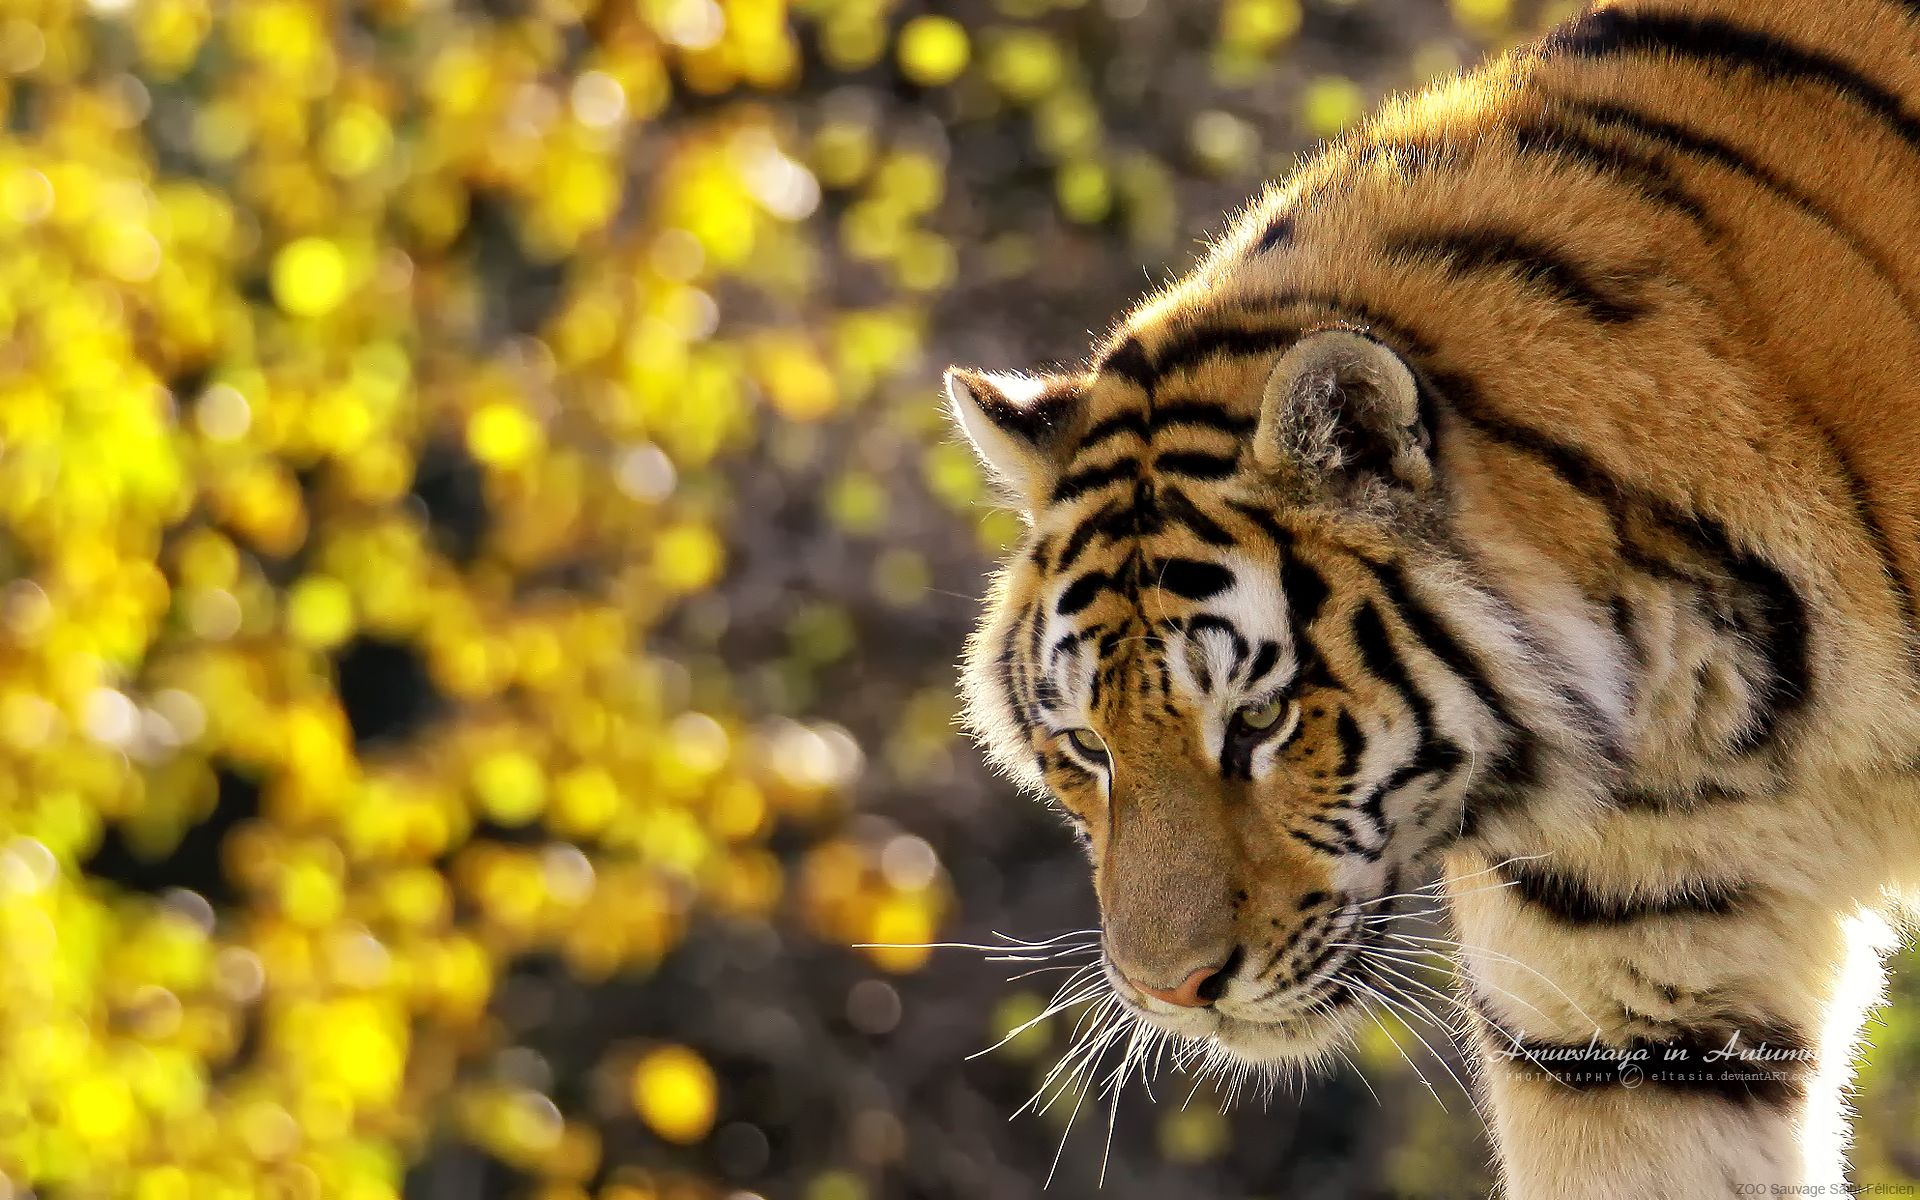Tigrew: (932, 80, 1892, 1103)
